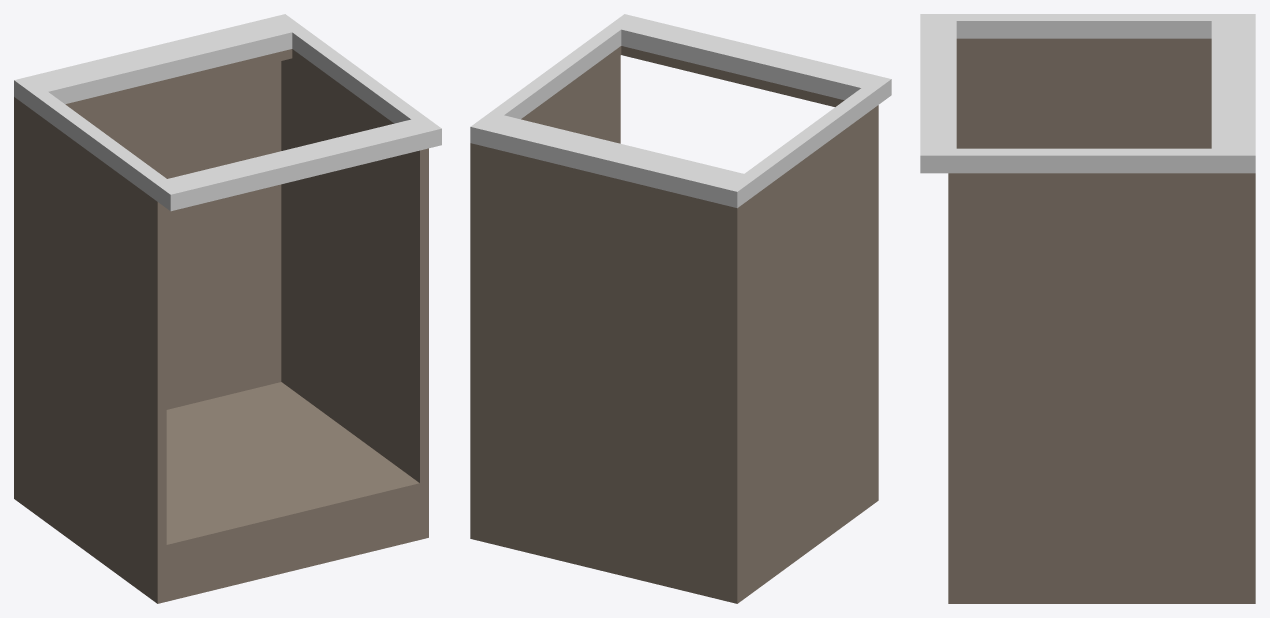
The model's file is Kitchen1_C5_05.fbx.
3 views of the same model, side by side, from view 1: azimuth 30°, elevation 25°; view 2: azimuth 150°, elevation 25°; view 3: azimuth 270°, elevation 25° (orthographic). The views are drawn at different scales.
Visible parts, largest first — view 1: Kitchen1_C5_05; view 2: Kitchen1_C5_05; view 3: Kitchen1_C5_05.
Part boxes in pixels (x1,y1,x2,y2): Kitchen1_C5_05: (14,14,441,603); Kitchen1_C5_05: (470,14,891,603); Kitchen1_C5_05: (920,14,1255,603).
Bounding box in the file's own units: 60 × 88.5 × 60.
